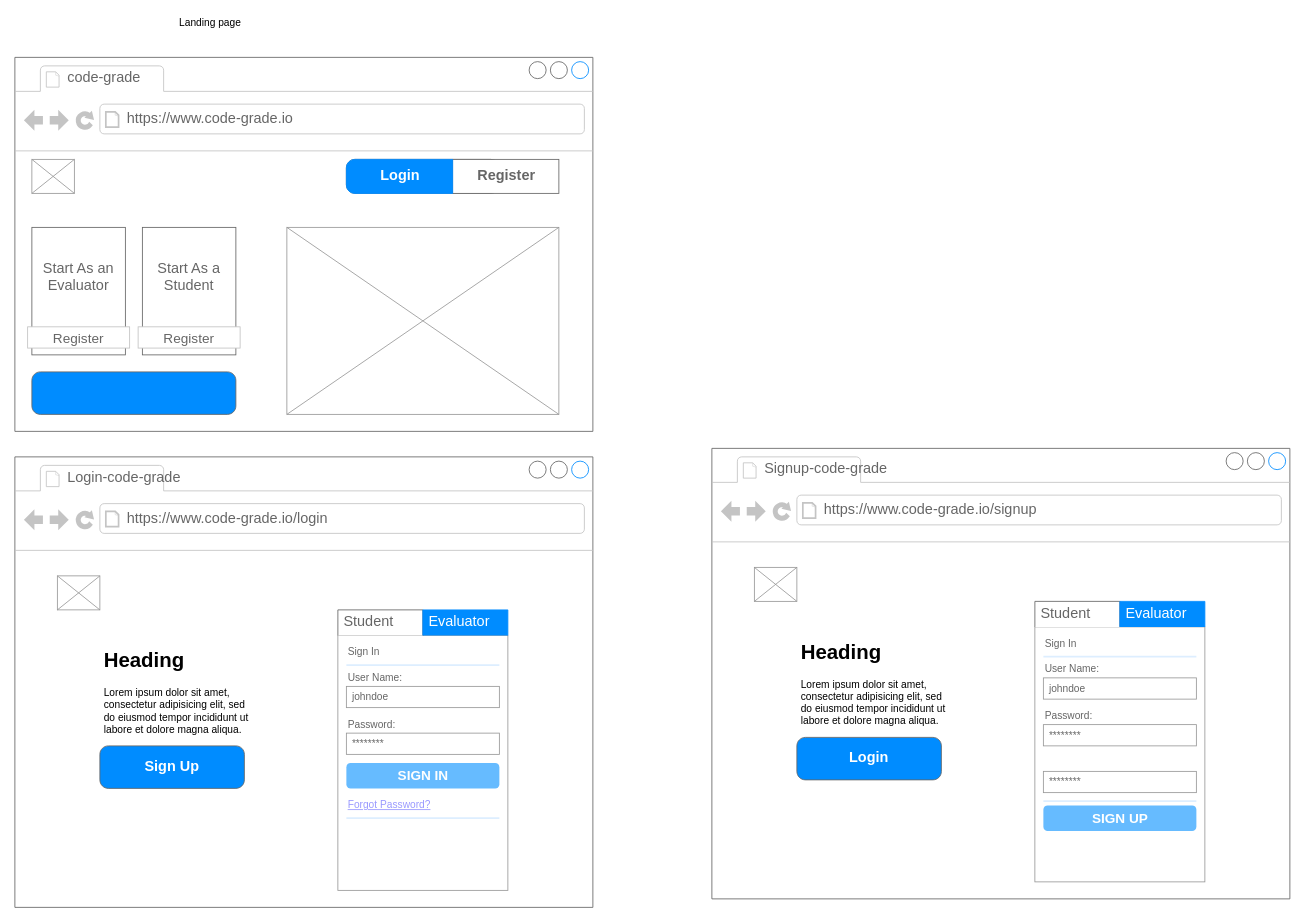
Some shapes in this 1305 by 922 pixel diagram are drawn without their labels. Here are the shapes that lost their labels. From the top down, the box of each, then its label:
(31, 371, 236, 414): Enter as Guest
(1043, 754, 1128, 771): Confirm Password:
